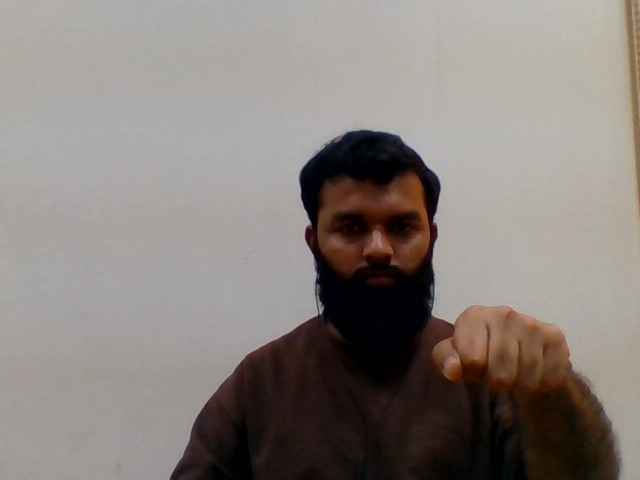Yes: (426, 291, 585, 392)
